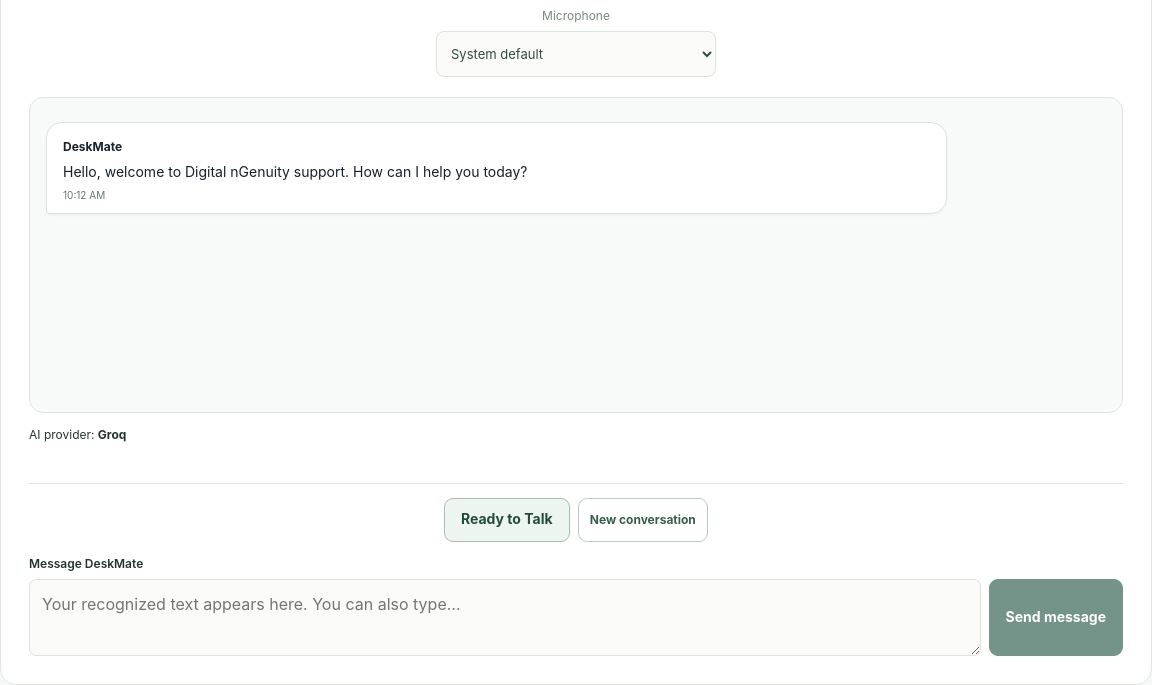
it: permission failure leaves text available and never opens speech WebSocket
(page scrolled)
Click the button "Ready to Talk": [507, 520] box [444,498,570,542]
(page scrolled)
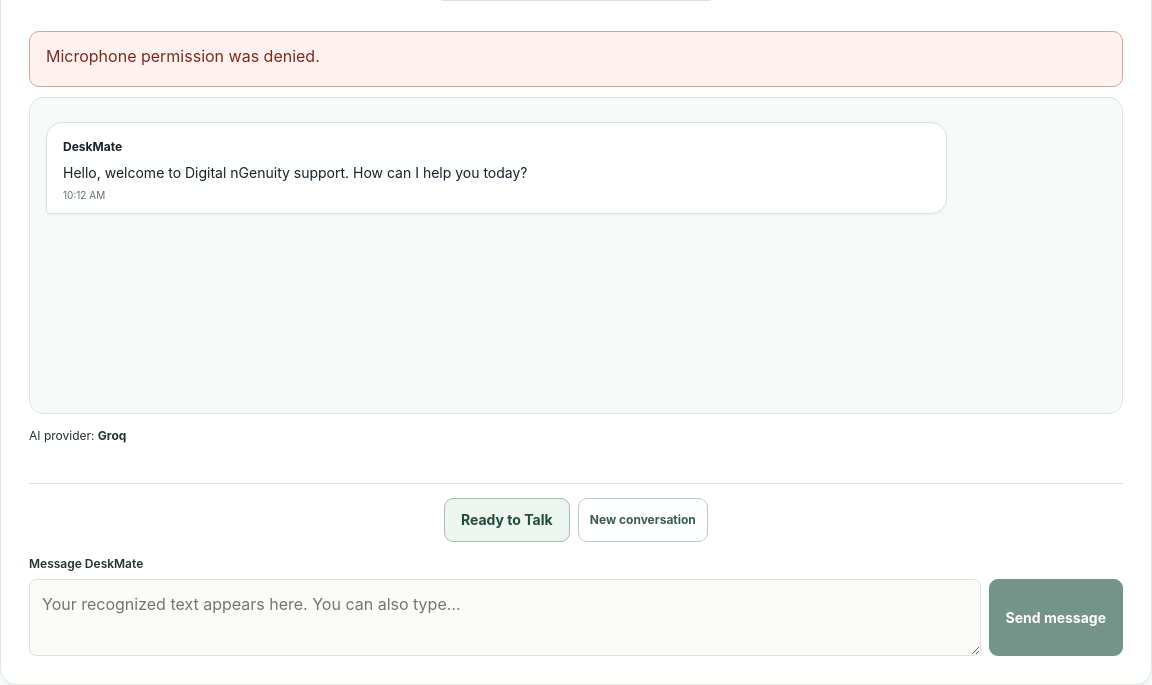
Expected: the text box labelled "Message DeskMate" is enabled, [29,579,980,656]
Result: the message shows "permission was denied" at [46,46,320,66]
